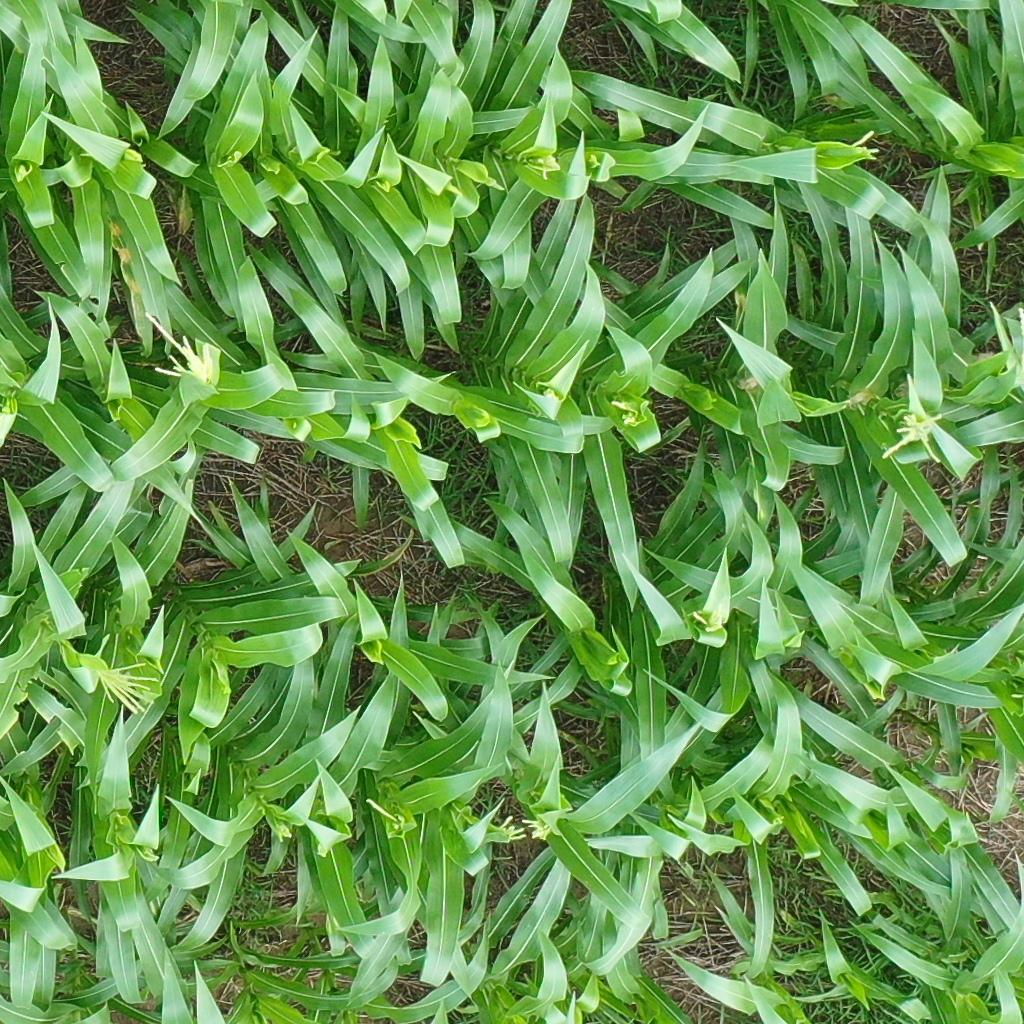Tassel: (139, 308, 223, 385), (879, 406, 952, 469), (97, 650, 161, 715), (365, 797, 412, 838), (492, 813, 552, 845), (847, 125, 883, 163), (691, 601, 725, 633), (534, 151, 569, 182), (268, 814, 295, 844), (132, 840, 161, 865), (612, 403, 638, 429), (541, 375, 561, 404), (120, 148, 143, 164)
